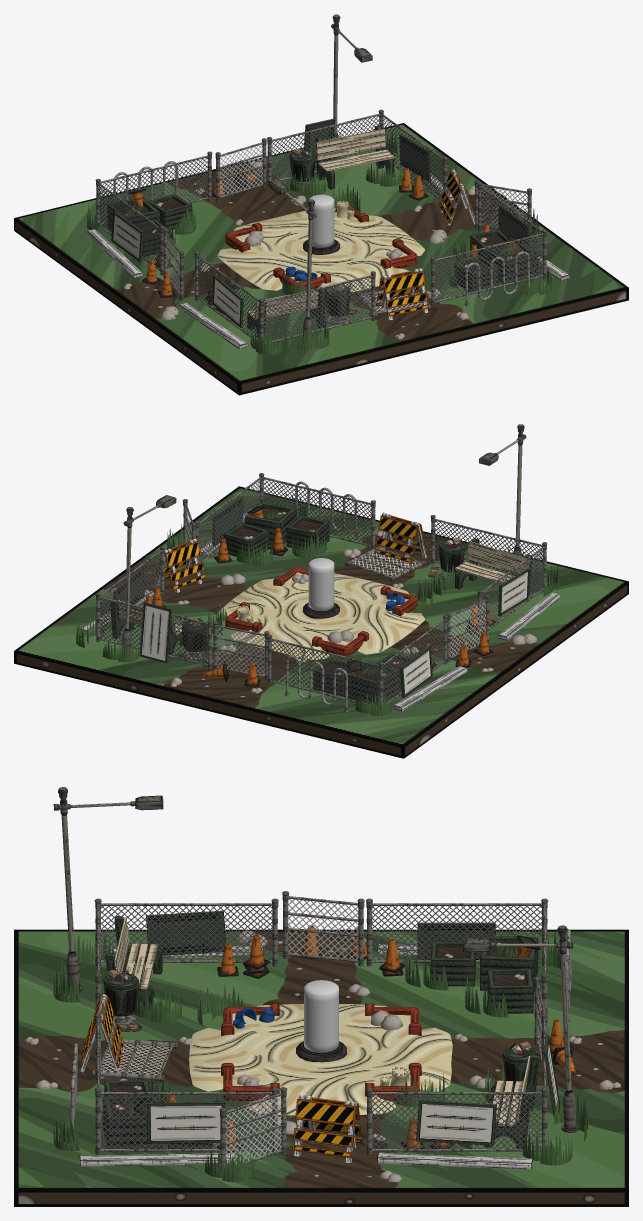
The model's file is Tutorial Level.fbx.
3 renders of one model, top to bottom at view 1: azimuth 30°, elevation 25°; view 2: azimuth 150°, elevation 25°; view 3: azimuth 270°, elevation 25°, orthographic. The views are drawn at different scales.
Visible parts, largest first — view 1: Ground, Sand, FenceLarge06, Bench00, FenceLarge07, FenceLarge04, ConstructionSign00, FenceLarge03, FenceLarge05, Bench01, FenceLarge01, FenceLarge02 (+27 smaller); view 2: Ground, Sand, FenceLarge04, FenceLarge07, Bench01, FenceLarge05, ConstructionSign00, ParkSign02, ConstructionSign01, FenceLarge02, PunchingBag, FenceLarge06 (+28 smaller); view 3: Ground, Sand, FenceLarge00, FenceLarge01, ConstructionSign01, FenceLarge03, ParkSign03, ParkSign04, FenceLarge02, ParkSign00, PunchingBag, Streetlight00 (+27 smaller).
Boxes of the visible parts, x1,y1,x2,y2 form: Ground: (14, 123, 628, 395); Sand: (218, 210, 424, 292); FenceLarge06: (263, 277, 371, 342); Bench00: (315, 125, 394, 189); FenceLarge07: (435, 235, 542, 300); FenceLarge04: (100, 157, 208, 222); ConstructionSign00: (376, 268, 428, 320); FenceLarge03: (382, 116, 443, 198); FenceLarge05: (271, 116, 379, 181); Bench01: (247, 288, 325, 338); FenceLarge01: (99, 185, 160, 268); FenceLarge02: (481, 189, 542, 272); Ground: (14, 486, 628, 758); Sand: (219, 572, 424, 659); FenceLarge04: (271, 640, 379, 704); FenceLarge07: (263, 479, 371, 544); Bench01: (454, 538, 531, 595); FenceLarge05: (100, 599, 207, 663); ConstructionSign00: (374, 512, 427, 565); ParkSign02: (139, 602, 171, 663); ConstructionSign01: (154, 538, 206, 593); FenceLarge02: (199, 479, 260, 562); PunchingBag: (308, 558, 334, 610); FenceLarge06: (435, 521, 542, 585); Ground: (14, 929, 628, 1206); Sand: (189, 1004, 452, 1115); FenceLarge00: (101, 906, 272, 960); FenceLarge01: (372, 906, 541, 960); ConstructionSign01: (292, 1095, 362, 1163); FenceLarge03: (372, 1094, 541, 1148); ParkSign03: (416, 1100, 496, 1145); ParkSign04: (147, 1101, 224, 1143); FenceLarge02: (101, 1094, 272, 1148); ParkSign00: (146, 910, 225, 955); PunchingBag: (304, 980, 338, 1052); Streetlight00: (463, 925, 578, 1132).
Bounding box in the file's own units: 3444 × 1351 × 3444.
